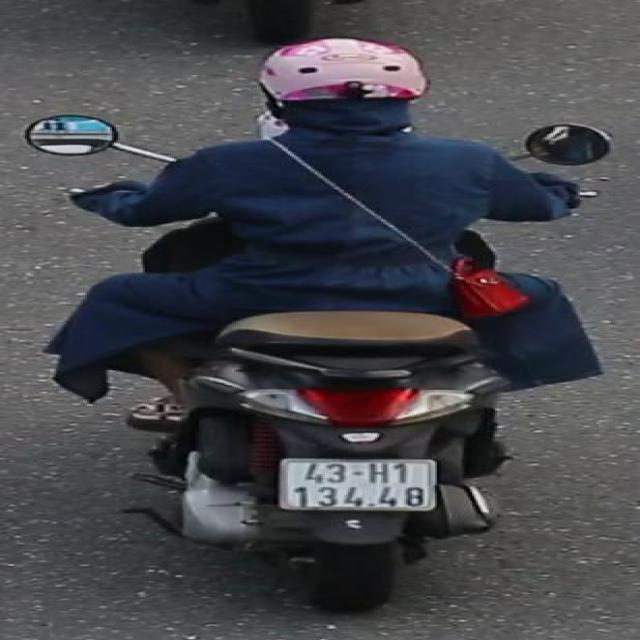LP: (272, 457, 444, 516)
helmet: (234, 34, 458, 149)
